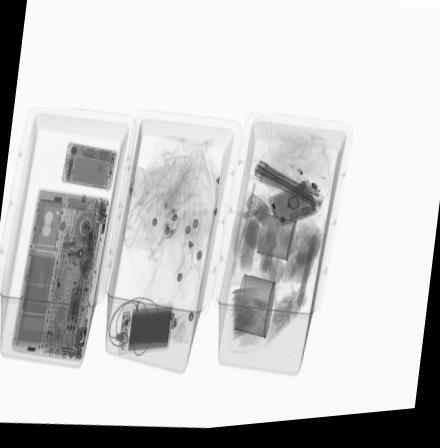Powerbank: (117, 309, 172, 354)
